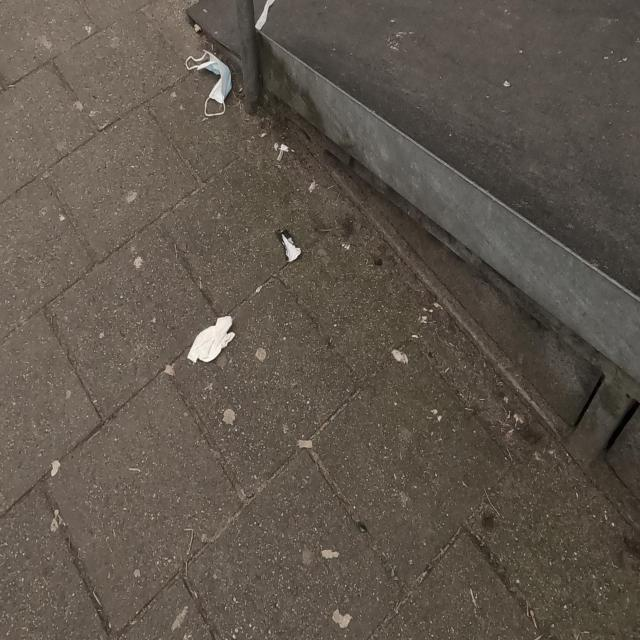Mask: (185, 46, 232, 117)
Paper: (186, 314, 236, 364)
